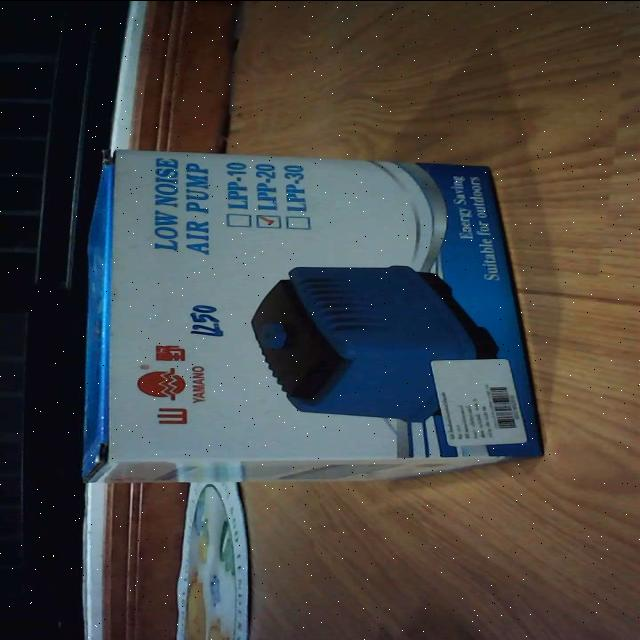YAMANO_LPP_20: (58, 150, 534, 490)
